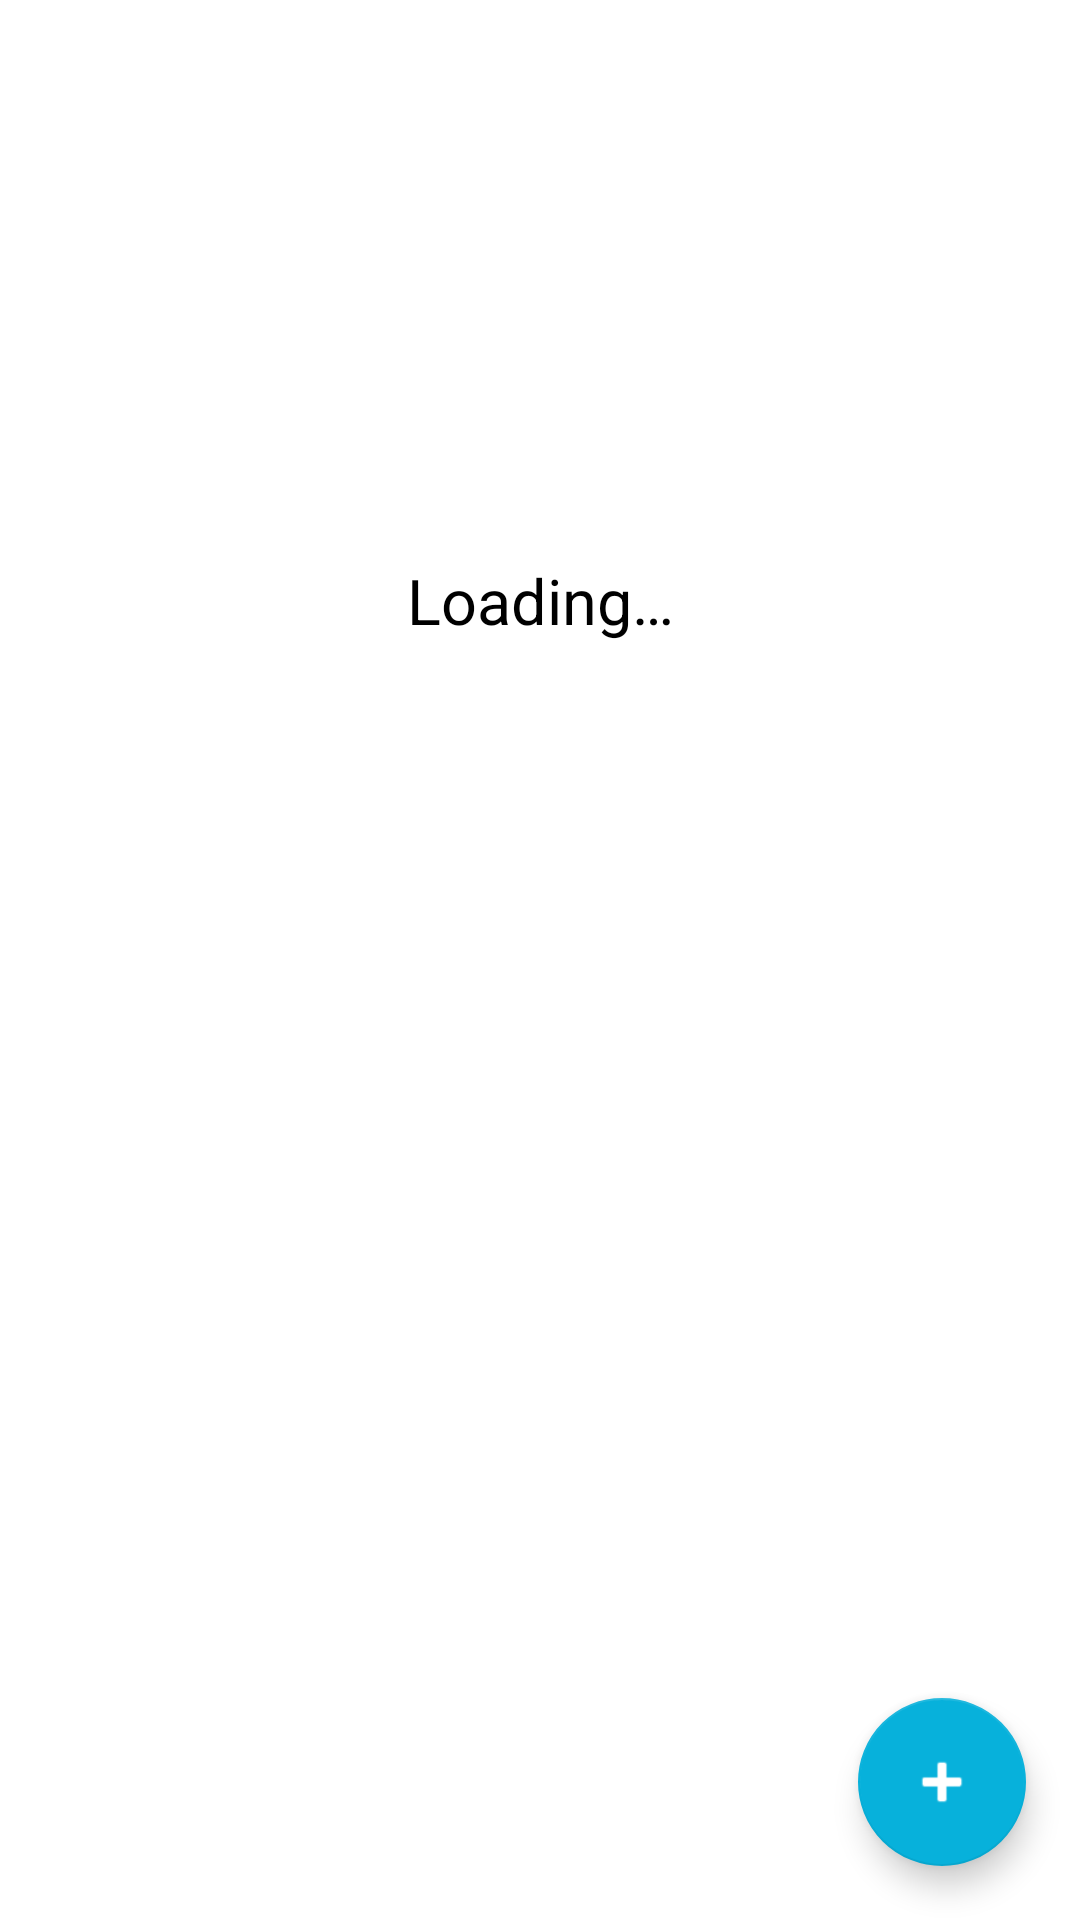

Icons on this 1080w x 1920h Android screen, each with its box as (x1, y1, x2, y2):
add: (858, 1698, 1026, 1866)
